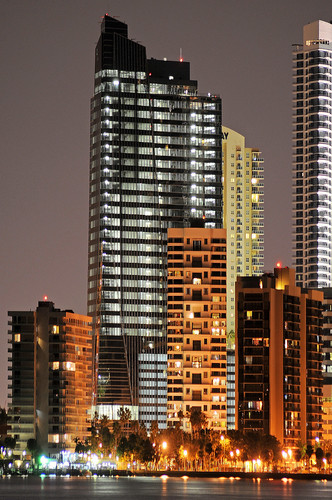low: (233, 264, 331, 476), (4, 299, 97, 474)
medium: (83, 14, 268, 464)
